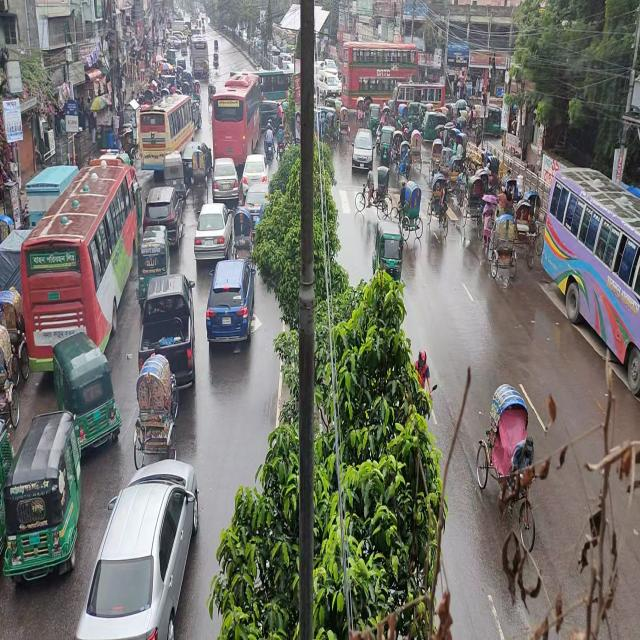black: (140, 276, 196, 391), (143, 185, 185, 252), (350, 128, 374, 171)
blue: (208, 260, 256, 344)
silver: (74, 458, 198, 640), (193, 202, 233, 261), (211, 158, 240, 202)
white: (243, 153, 268, 198)
